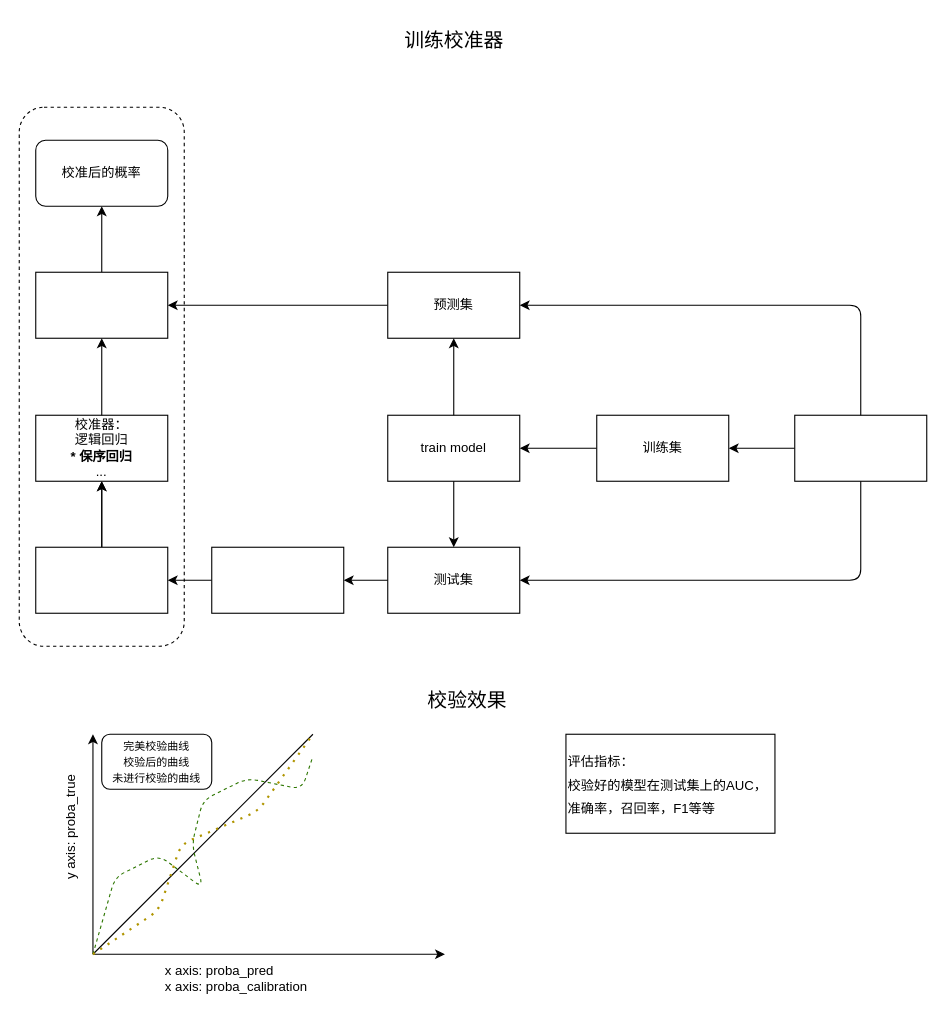
The diagram is 946 pixels wide and 1019 high, and some of its shapes have lost their labels. Each missing label, with the centre of its shape:
"(pred_proba, true positive ratio)" goes at [101,579].
"样本" goes at [860,447].
"测试集预测概率" goes at [277,579].
"预测集预测概率" goes at [101,304].
